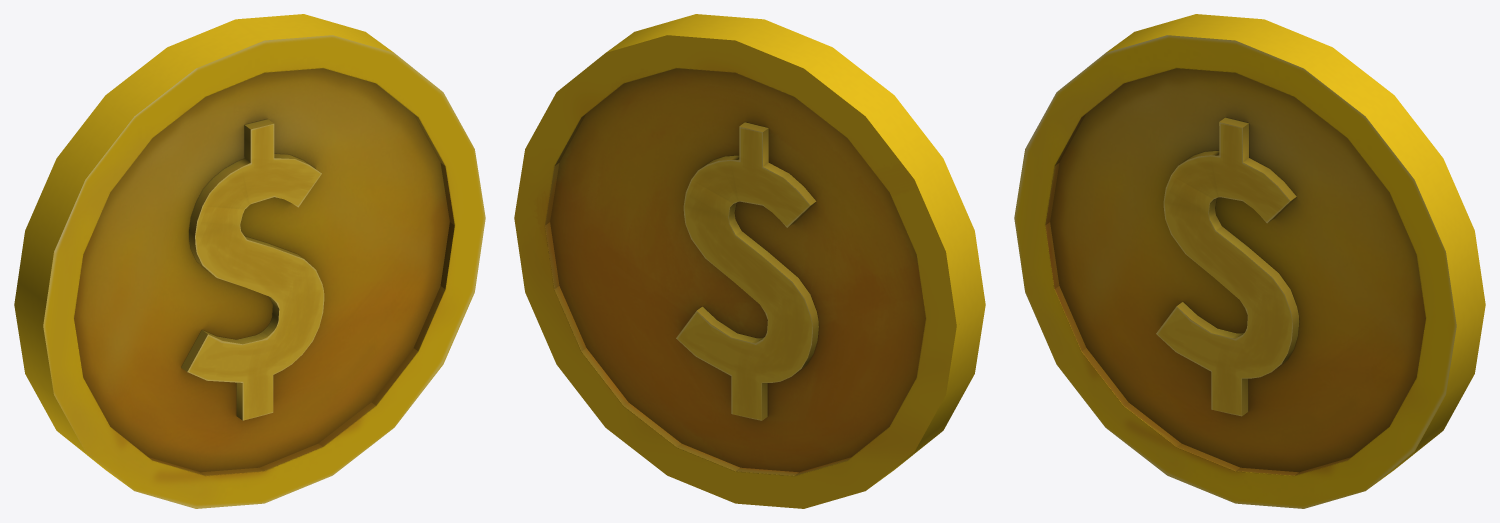
The model's file is Coin_Dollar.fbx.
The picture shows the model from 3 angles, left to right: view 1: azimuth 30°, elevation 25°; view 2: azimuth 150°, elevation 25°; view 3: azimuth 330°, elevation 25°; orthographic projection.
Parts seen in each view (by area): view 1: Coin_Dollar; view 2: Coin_Dollar; view 3: Coin_Dollar.
Part boxes in pixels (x1=…): Coin_Dollar: x1=14, y1=14, x2=485, y2=508; Coin_Dollar: x1=514, y1=14, x2=985, y2=508; Coin_Dollar: x1=1014, y1=14, x2=1485, y2=508.
Size of the model in its own units: 0.0908 by 0.0908 by 0.0115.
